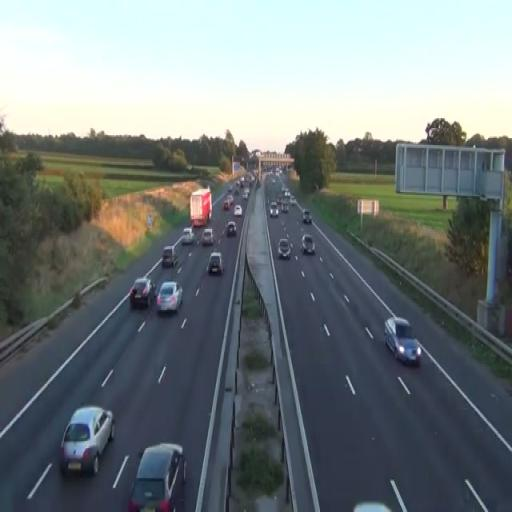Car: (126, 442, 186, 511), (59, 405, 115, 478), (384, 316, 421, 367), (156, 281, 183, 315), (130, 277, 152, 309), (208, 250, 224, 274), (277, 236, 292, 260), (301, 234, 316, 254), (201, 228, 214, 246), (182, 227, 194, 245), (226, 220, 237, 238), (270, 204, 279, 218), (223, 198, 233, 210)
Truck: (190, 187, 212, 228)
